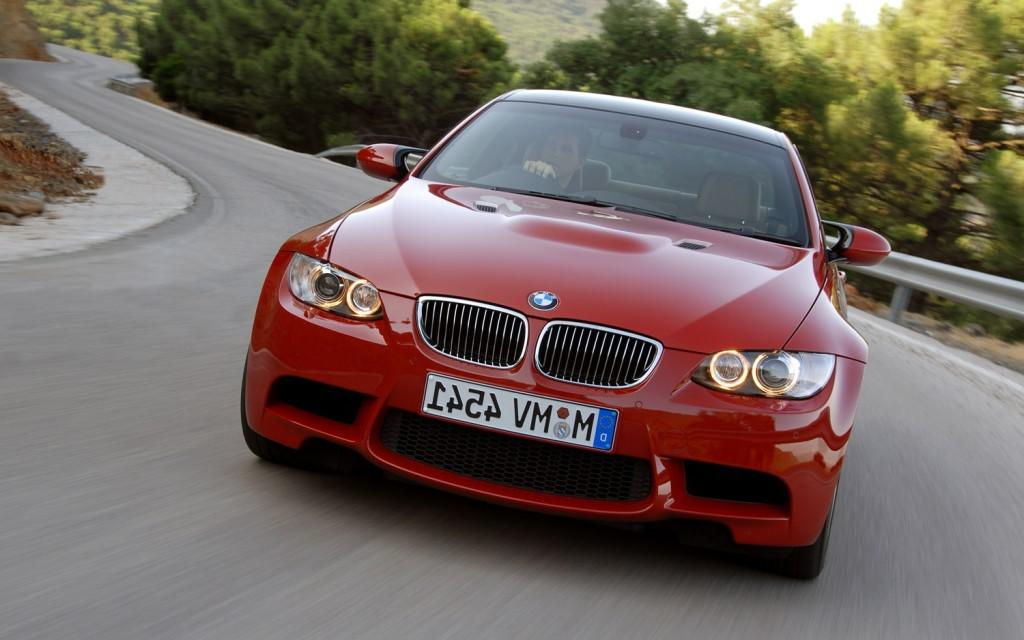Car: (193, 58, 913, 606)
